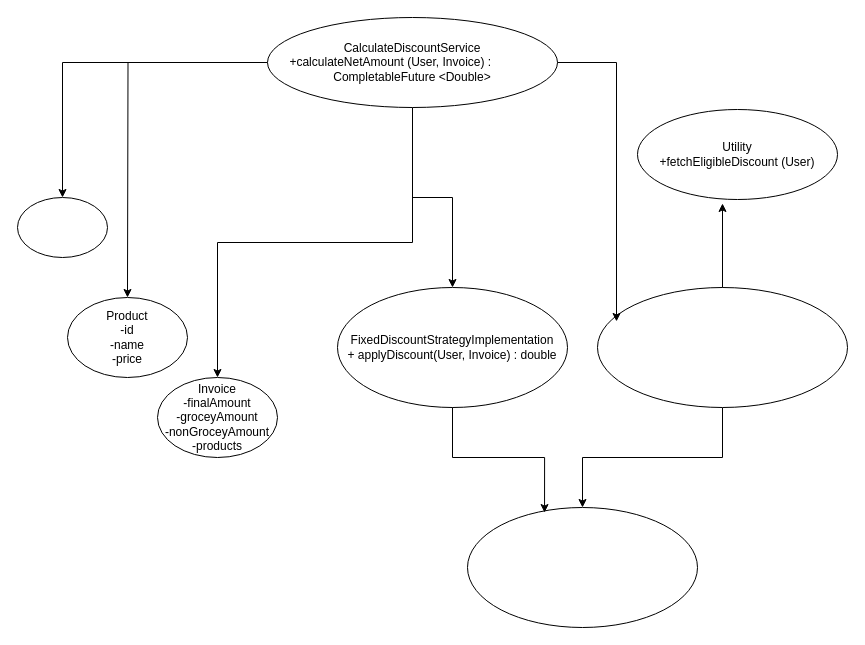
Image size: 865x645. Some labels were removed from this diagram. The shapes that lost their labels are listed below. From the top down, each one's centre as x and y in pixels, then its label:
[62,227]: User -userId
[722,347]: PercentageDiscountStrategyImplementation + applyDiscount(User, Invoice) : double
[582,567]: CalculateDiscountStrategy + applyDiscount(User, Invoice) : double
